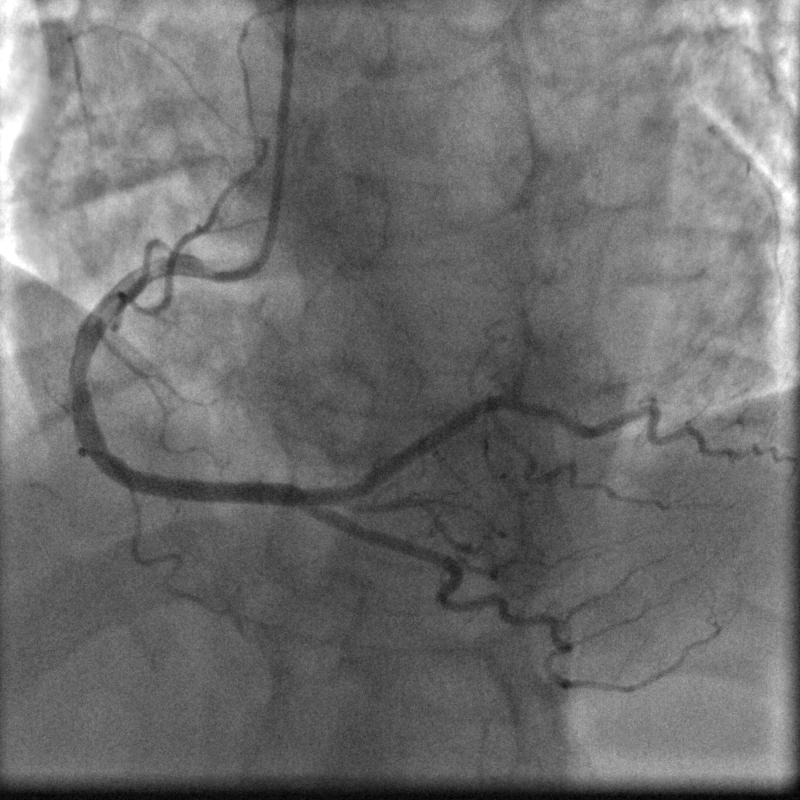Stenosis: (60, 358, 96, 402)
